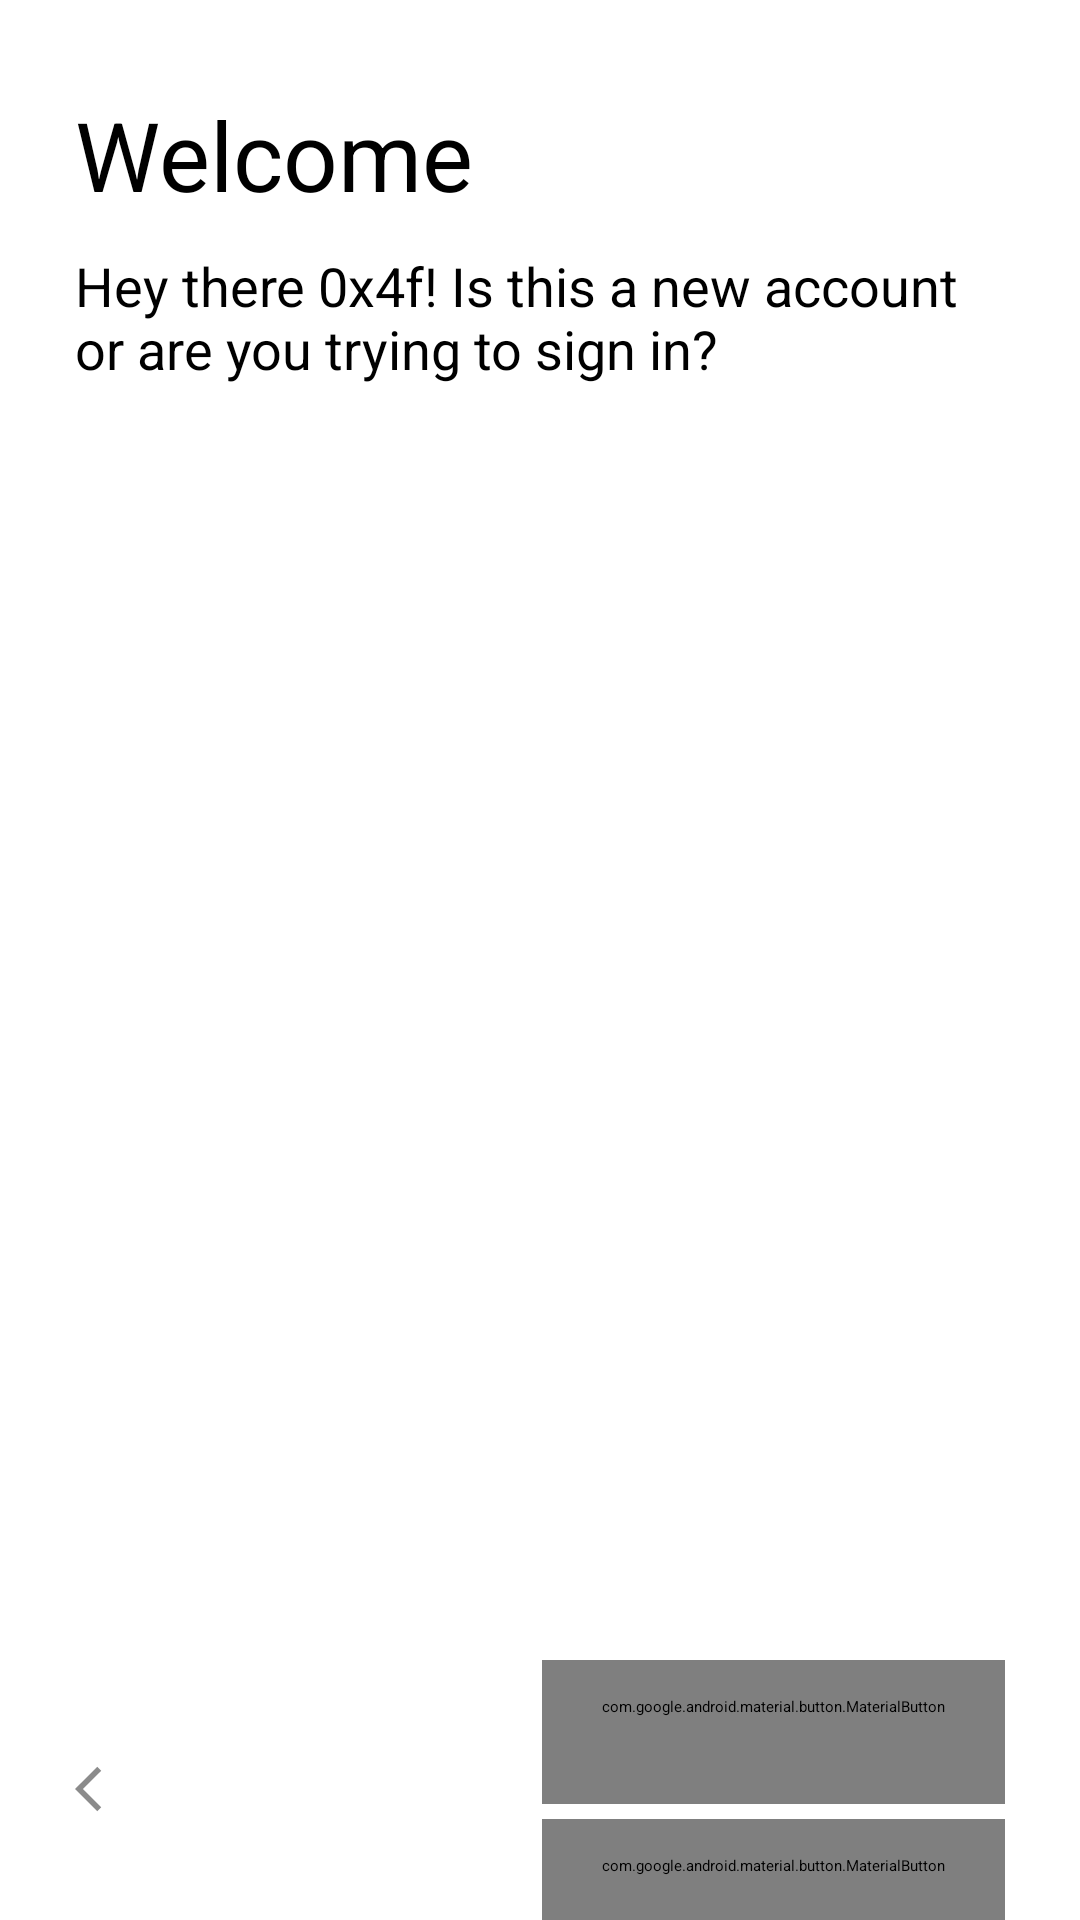

Icon bounding boxes for this 1080*1920 phone screenshot, format [x1=x1, y1=y1, x2=x2, y2=y2]:
arrow back: [x1=75, y1=1767, x2=101, y2=1811]
